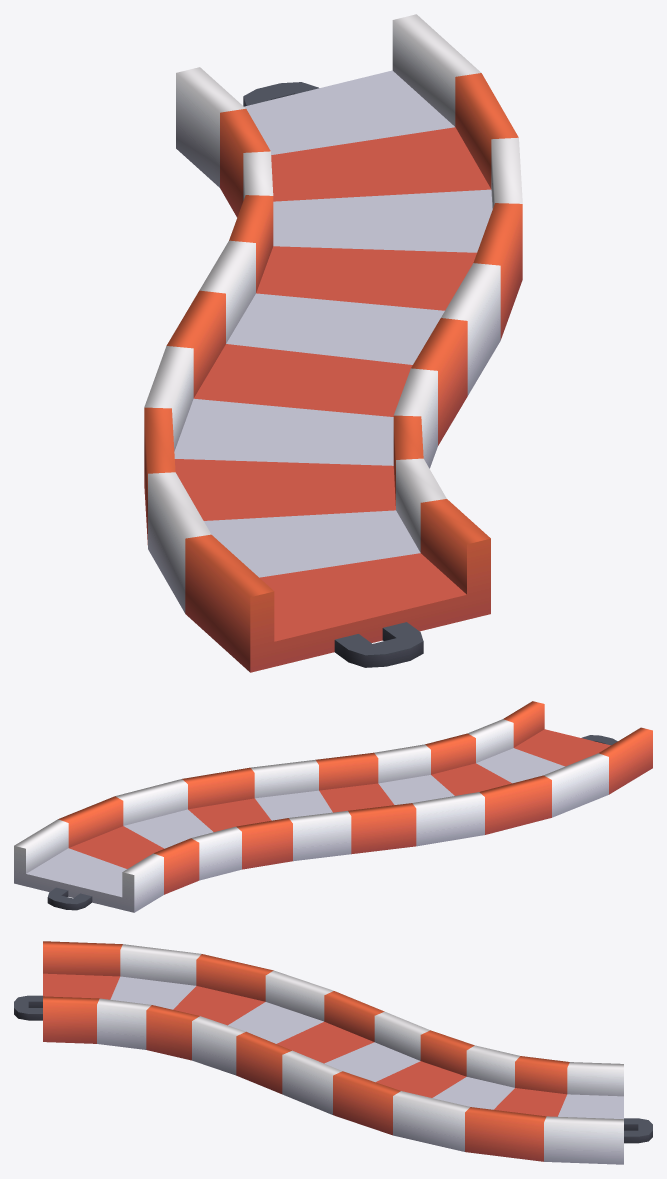
Rendered from track-striped-narrow-curve.glb.
The picture shows the model from 3 angles, top to bottom: view 1: azimuth 30°, elevation 25°; view 2: azimuth 150°, elevation 25°; view 3: azimuth 270°, elevation 25°; orthographic projection. The views are drawn at different scales.
Parts seen in each view (by area): view 1: track-striped-narrow-curve; view 2: track-striped-narrow-curve; view 3: track-striped-narrow-curve.
Part boxes in pixels (<box>): track-striped-narrow-curve: <box>144,14,522,672</box>; track-striped-narrow-curve: <box>14,701,652,912</box>; track-striped-narrow-curve: <box>14,941,652,1164</box>.
Size of the model in its own units: 3 by 0.2997 by 4.4.
1 material, 1 textured.
